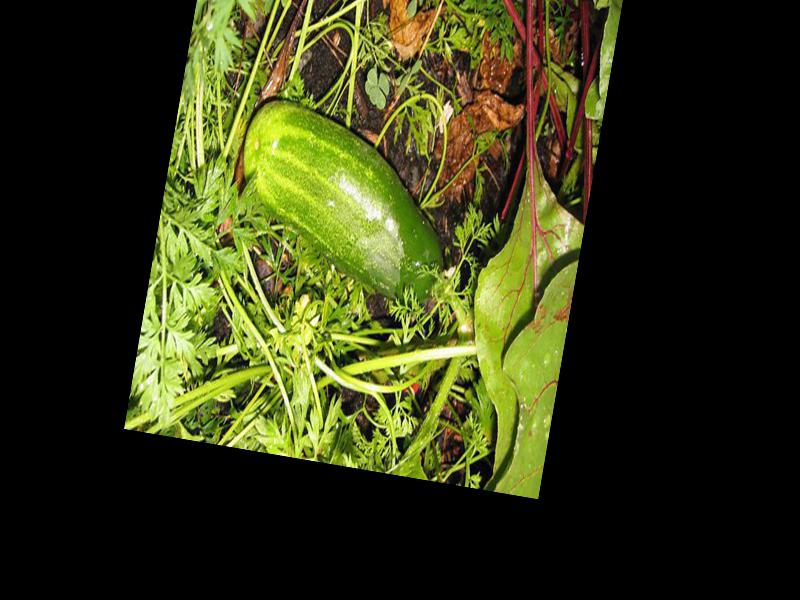Cucumber: (224, 94, 466, 315)
